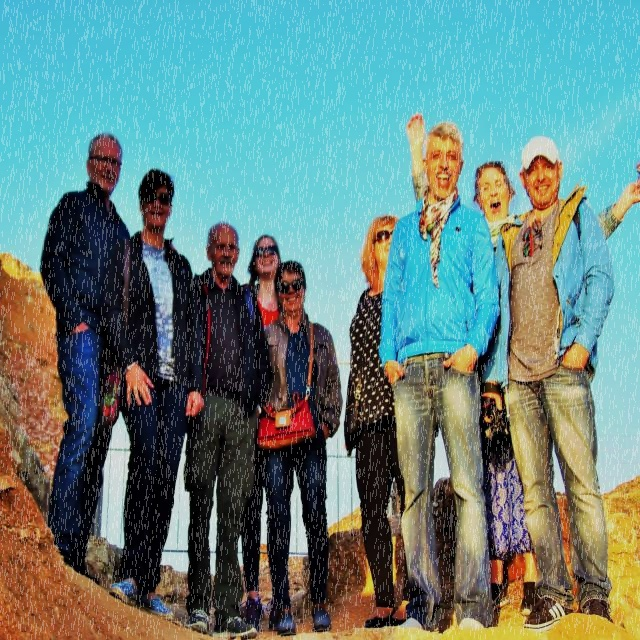pessoa: (402, 110, 640, 622), (478, 134, 616, 631), (378, 120, 502, 638), (110, 164, 206, 626), (40, 132, 134, 588), (185, 222, 274, 638), (256, 259, 344, 635), (344, 213, 412, 630), (240, 234, 282, 634)
